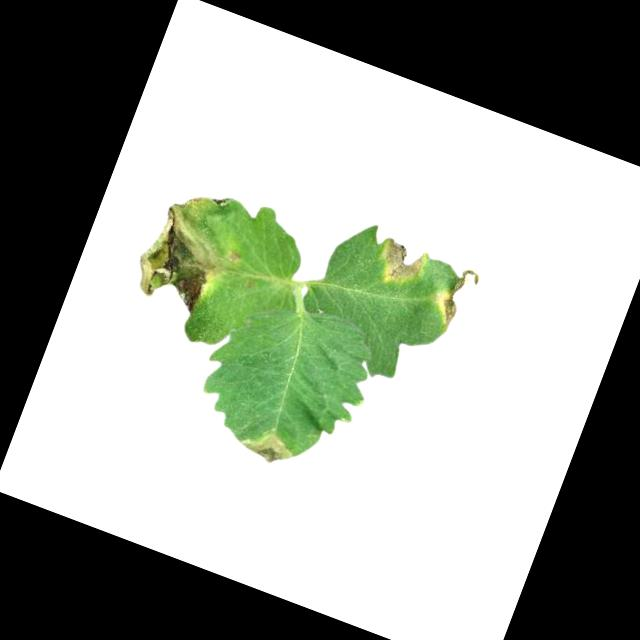Late_blight: (124, 174, 251, 323), (426, 261, 482, 334), (369, 234, 429, 295), (239, 426, 297, 471)
